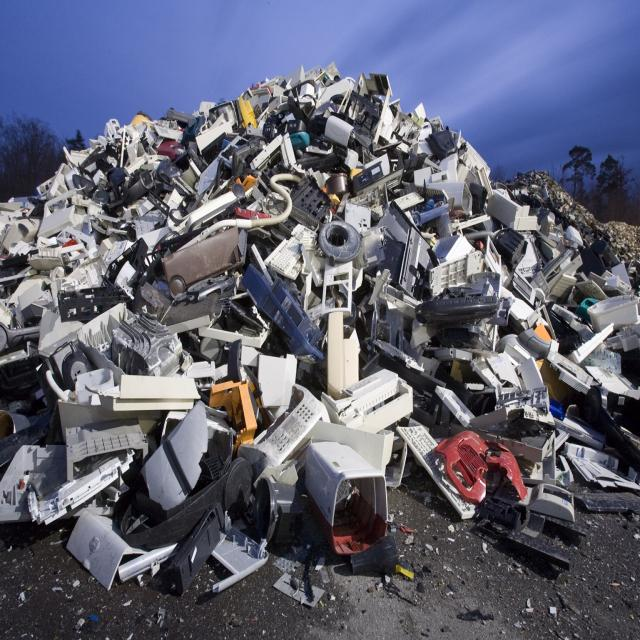hazard: (0, 75, 636, 574)
